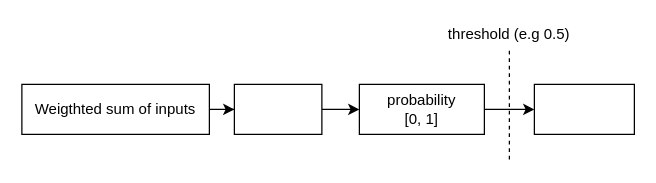
Some shapes in this 656 by 183 pixel diagram are drawn without their labels. The centre of each missing label's shape, as x and y in pixels:
"Class prediction" goes at (x=583, y=108).
"Sigmoid" goes at (x=277, y=108).
